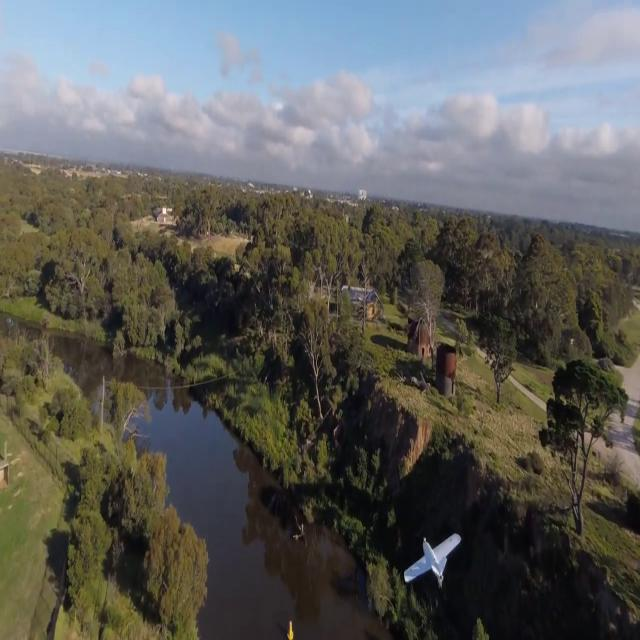iha: (403, 527, 464, 588)
